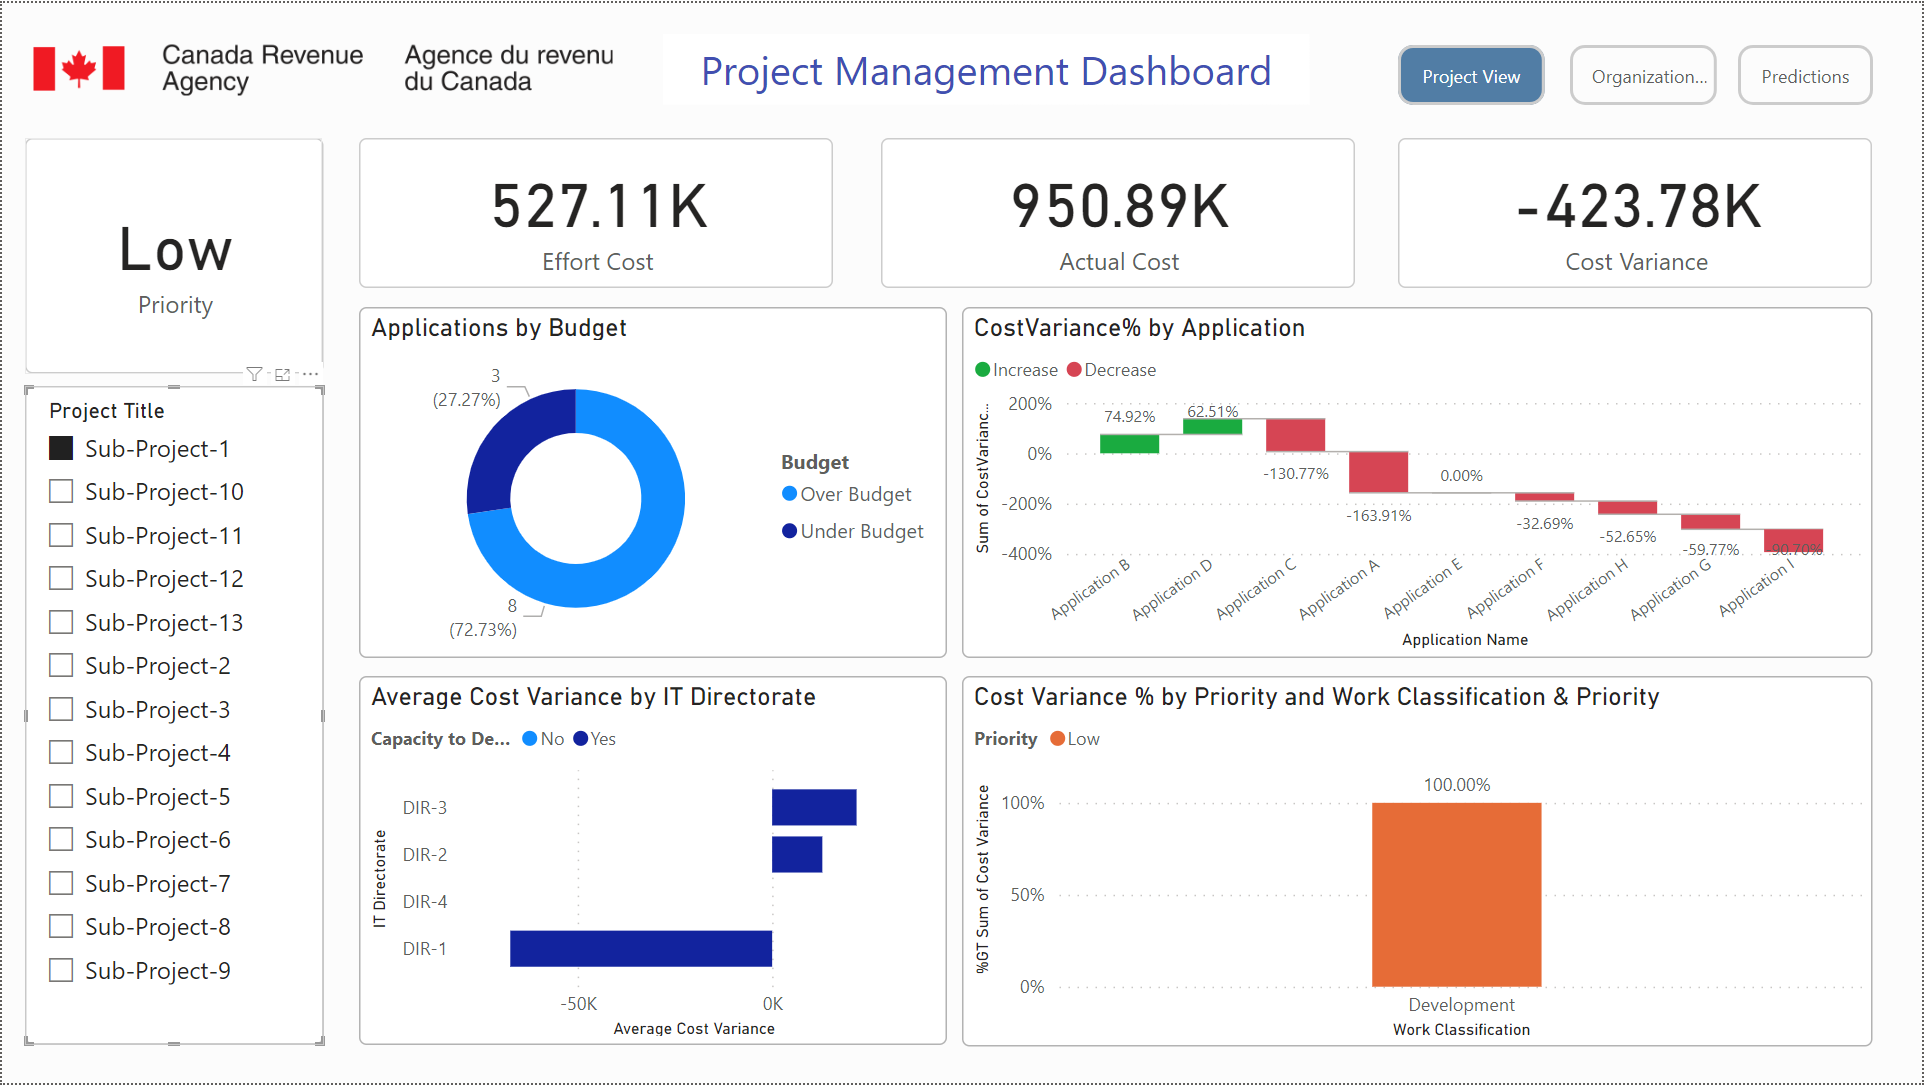

The dashboard page shown, as its layout file describes it:
{"tool":"powerbi","page":{"name":"Project View","canvas":[1280,720],"ordinal":0},"visuals":[{"type":"donutChart","fields":{"Category":["Project A.VarianceCategory"],"Y":["CountNonNull(Project A.Application Name)"]},"box":[237.9,202.9,392.1,234.3],"z":0},{"type":"clusteredColumnChart","title":"Cost Variance % by Priority and Work Classification & Priority","fields":{"Category":["Project A.Work Classification"],"Y":["Divide(Sum(Project A.Cost Variance), ScopedEval(Sum(Project A.Cost Variance), []))"],"Series":["Project A.Priority"]},"box":[640,448.6,607.1,247.1],"z":1000},{"type":"barChart","title":"Average Cost Variance by IT Directorate","fields":{"Category":["Project A.IT Directorate"],"Y":["Project A.AverageCostVarianceByDirectorate"],"Series":["Project A.Capacity to Deliver"]},"box":[237.9,448.6,392.1,246.4],"z":2000},{"type":"actionButton","title":"Home","box":[1157.1,27.9,90,40],"z":3000},{"type":"image","box":[15.7,20.7,396.4,47.1],"z":4000},{"type":"textbox","box":[440.7,20.7,431.4,47.1],"z":5000},{"type":"card","fields":{"Values":["Sum(Project A.Effort Cost)"]},"box":[237.9,90,316.4,100],"z":6000},{"type":"card","fields":{"Values":["Sum(Project A.Actuals)"]},"box":[585.7,90,315.7,100],"z":7000},{"type":"card","fields":{"Values":["Sum(Project A.Cost Variance)"]},"box":[930.7,90,316.4,100],"z":8000},{"type":"waterfallChart","title":"CostVariance% by Application","fields":{"Category":["Project A.Application Name"],"Y":["Sum(Project A.CostVariance%)"]},"box":[640,202.9,607.1,233.6],"z":9000},{"type":"actionButton","box":[930.7,27.9,97.9,40],"z":10000},{"type":"slicer","fields":{"Values":["Project A.Change Request Title"]},"box":[15.4,255.4,199.2,439.2],"z":11000},{"type":"card","fields":{"Values":["Min(Project A.Priority)"]},"box":[15,90,198.6,157.1],"z":12000},{"type":"actionButton","box":[1045,27.9,97.9,40],"z":13000}]}

Visuals, with their boxes in screenshot pixels (x1, y1, x2, y2), scaled from the page's 1280x720 canvas onto the 1924x1085 screenshot:
donutChart - Project A.VarianceCategory x CountNonNull(Project A.Application Name): BBox(358, 306, 947, 659)
"Cost Variance % by Priority and Work Classification & Priority" clusteredColumnChart: BBox(962, 676, 1875, 1048)
"Average Cost Variance by IT Directorate" barChart: BBox(358, 676, 947, 1047)
"Home" actionButton: BBox(1739, 42, 1875, 102)
image: BBox(24, 31, 619, 102)
textbox: BBox(662, 31, 1311, 102)
card - Sum(Project A.Effort Cost): BBox(358, 136, 833, 286)
card - Sum(Project A.Actuals): BBox(880, 136, 1355, 286)
card - Sum(Project A.Cost Variance): BBox(1399, 136, 1875, 286)
"CostVariance% by Application" waterfallChart: BBox(962, 306, 1875, 658)
actionButton: BBox(1399, 42, 1546, 102)
slicer - Project A.Change Request Title: BBox(23, 385, 323, 1047)
card - Min(Project A.Priority): BBox(23, 136, 321, 372)
actionButton: BBox(1571, 42, 1718, 102)
